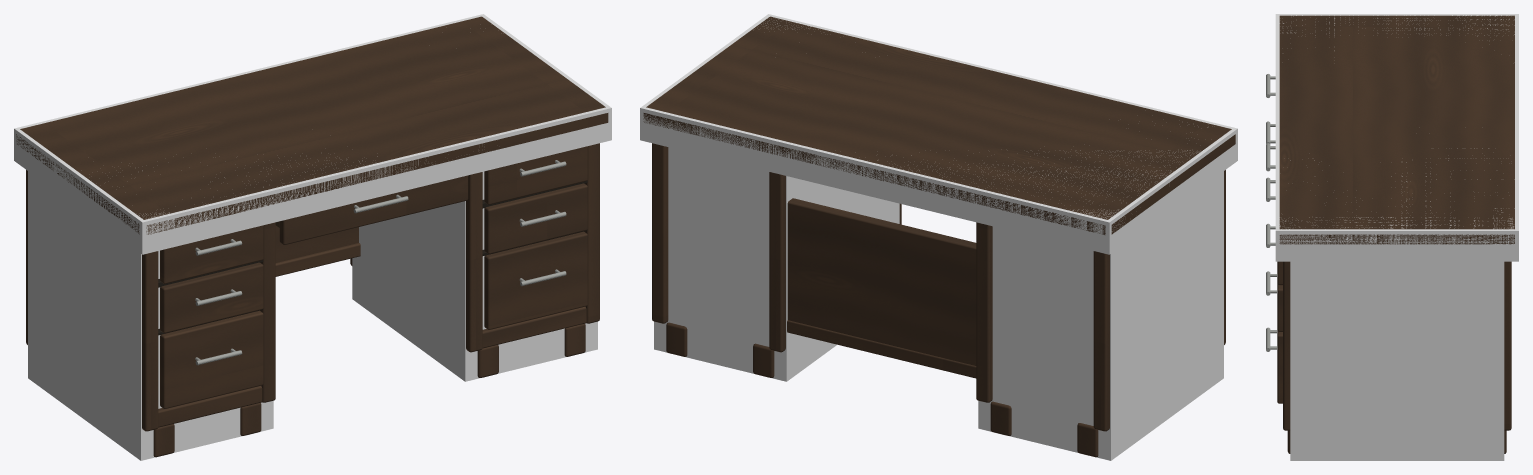
The model's file is standard.glb.
The picture shows the model from 3 angles, left to right: view 1: azimuth 30°, elevation 25°; view 2: azimuth 150°, elevation 25°; view 3: azimuth 270°, elevation 25°; orthographic projection. The views are drawn at different scales.
Parts seen in each view (by area): view 1: BATCH_Desktop_Desk_Standard_Surface, COL_Desk_Standard_LeftPedestal, COL_Desk_Standard_Desktop, COL_Desk_Standard_RightPedestal, BATCH_Body_Desk_Standard_Body, BATCH_Drawer_Left_Bottom_Desk_Standard_Body, BATCH_Drawer_Right_Bottom_Desk_Standard_Body, BATCH_Drawer_Left_Middle_Desk_Standard_Body, BATCH_Drawer_Right_Middle_Desk_Standard_Body, BATCH_Drawer_Center_Desk_Standard_Body, BATCH_Drawer_Left_Top_Desk_Standard_Body, BATCH_Drawer_Right_Top_Desk_Standard_Body (+2 smaller); view 2: BATCH_Desktop_Desk_Standard_Surface, COL_Desk_Standard_LeftPedestal, BATCH_ModestyPanel_Desk_Standard_Body, COL_Desk_Standard_RightPedestal, COL_Desk_Standard_Desktop, BATCH_Body_Desk_Standard_Body; view 3: BATCH_Desktop_Desk_Standard_Surface, COL_Desk_Standard_RightPedestal, COL_Desk_Standard_Desktop, BATCH_Body_Desk_Standard_Body, BATCH_Drawer_Right_Bottom_Desk_Standard_Body, BATCH_Drawer_Right_Middle_Desk_Standard_Body.
Boxes of the visible parts, x1=… form: BATCH_Desktop_Desk_Standard_Surface: x1=16, y1=16, x2=608, y2=234; COL_Desk_Standard_LeftPedestal: x1=28, y1=171, x2=273, y2=460; COL_Desk_Standard_Desktop: x1=14, y1=14, x2=611, y2=254; COL_Desk_Standard_RightPedestal: x1=352, y1=171, x2=597, y2=381; BATCH_Body_Desk_Standard_Body: x1=26, y1=143, x2=599, y2=457; BATCH_Drawer_Left_Bottom_Desk_Standard_Body: x1=160, y1=310, x2=263, y2=408; BATCH_Drawer_Right_Bottom_Desk_Standard_Body: x1=484, y1=231, x2=587, y2=329; BATCH_Drawer_Left_Middle_Desk_Standard_Body: x1=160, y1=262, x2=263, y2=333; BATCH_Drawer_Right_Middle_Desk_Standard_Body: x1=484, y1=183, x2=587, y2=254; BATCH_Drawer_Center_Desk_Standard_Body: x1=279, y1=175, x2=468, y2=244; BATCH_Drawer_Left_Top_Desk_Standard_Body: x1=160, y1=225, x2=263, y2=283; BATCH_Drawer_Right_Top_Desk_Standard_Body: x1=484, y1=146, x2=587, y2=204; BATCH_Desktop_Desk_Standard_Surface: x1=643, y1=16, x2=1235, y2=234; COL_Desk_Standard_LeftPedestal: x1=978, y1=171, x2=1223, y2=460; BATCH_ModestyPanel_Desk_Standard_Body: x1=787, y1=198, x2=976, y2=378; COL_Desk_Standard_RightPedestal: x1=654, y1=147, x2=899, y2=381; COL_Desk_Standard_Desktop: x1=640, y1=14, x2=1237, y2=254; BATCH_Body_Desk_Standard_Body: x1=652, y1=143, x2=1225, y2=457; BATCH_Desktop_Desk_Standard_Surface: x1=1279, y1=15, x2=1514, y2=244; COL_Desk_Standard_RightPedestal: x1=1290, y1=261, x2=1504, y2=460; COL_Desk_Standard_Desktop: x1=1275, y1=14, x2=1518, y2=261; BATCH_Body_Desk_Standard_Body: x1=1283, y1=261, x2=1511, y2=453; BATCH_Drawer_Right_Bottom_Desk_Standard_Body: x1=1277, y1=330, x2=1282, y2=403; BATCH_Drawer_Right_Middle_Desk_Standard_Body: x1=1277, y1=284, x2=1282, y2=331.
Size of the model in its own units: 1.52 by 0.76 by 0.7485.
Materials: 5 (3 with a texture image).
